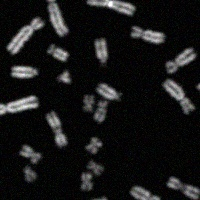chromosome: (6, 17, 43, 52), (162, 78, 193, 113), (166, 48, 196, 74), (46, 0, 67, 37), (166, 177, 200, 199), (86, 0, 135, 15), (46, 110, 66, 145), (0, 96, 37, 113), (130, 26, 164, 43), (96, 82, 121, 101), (130, 185, 160, 200), (19, 145, 41, 162), (47, 44, 67, 61), (11, 66, 36, 78), (95, 39, 107, 63), (94, 100, 107, 121), (85, 138, 102, 153), (88, 162, 104, 176), (81, 173, 92, 190), (83, 94, 93, 111), (57, 71, 70, 83), (24, 168, 36, 181), (196, 63, 200, 96), (84, 197, 109, 200)
